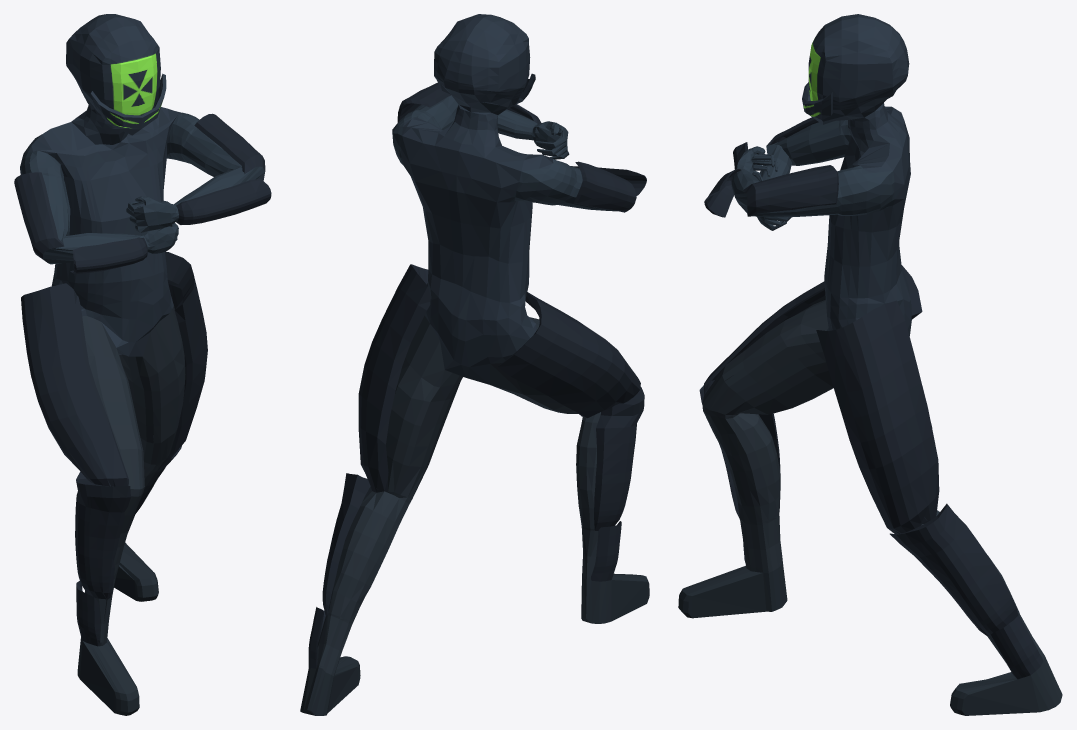
The model's file is Bastion_WB_000004.obj.
The picture shows the model from 3 angles, left to right: view 1: azimuth 30°, elevation 25°; view 2: azimuth 150°, elevation 25°; view 3: azimuth 270°, elevation 25°; orthographic projection. The views are drawn at different scales.
Parts seen in each view (by area): view 1: Cube.002; view 2: Cube.002; view 3: Cube.002.
Boxes of the visible parts, left/top/right/bottom form: Cube.002: left=14, top=14, right=271, bottom=715; Cube.002: left=300, top=14, right=649, bottom=715; Cube.002: left=678, top=14, right=1062, bottom=715.
Bounding box in the file's own units: 1.31 × 3.63 × 1.94.
